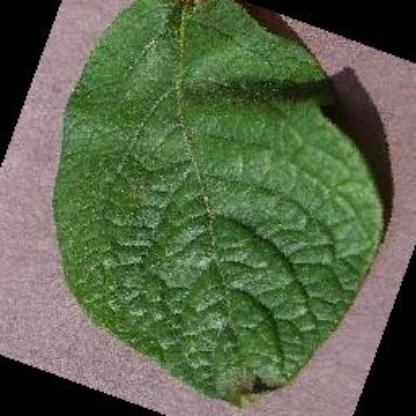Healthy-plant: (45, 0, 387, 406)
